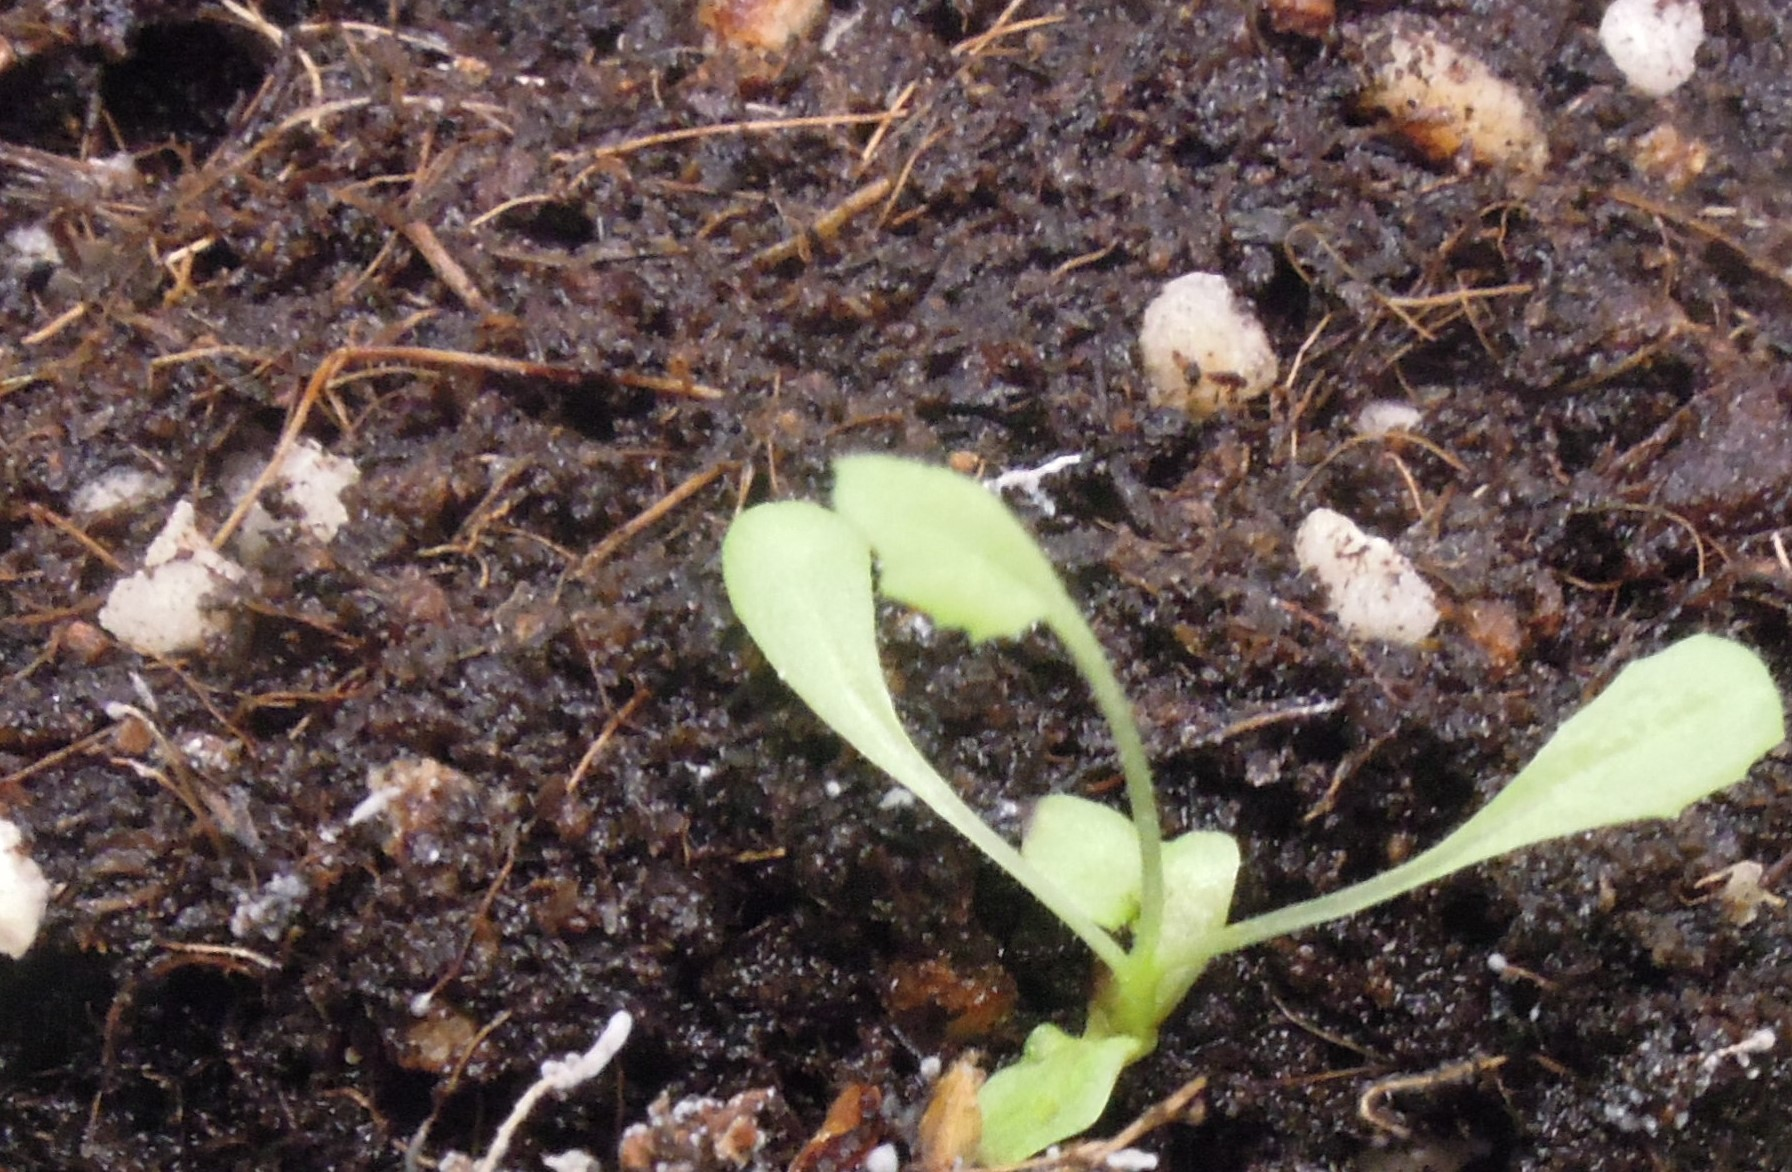week2: (1131, 591, 1785, 1012), (702, 455, 1179, 1012)
